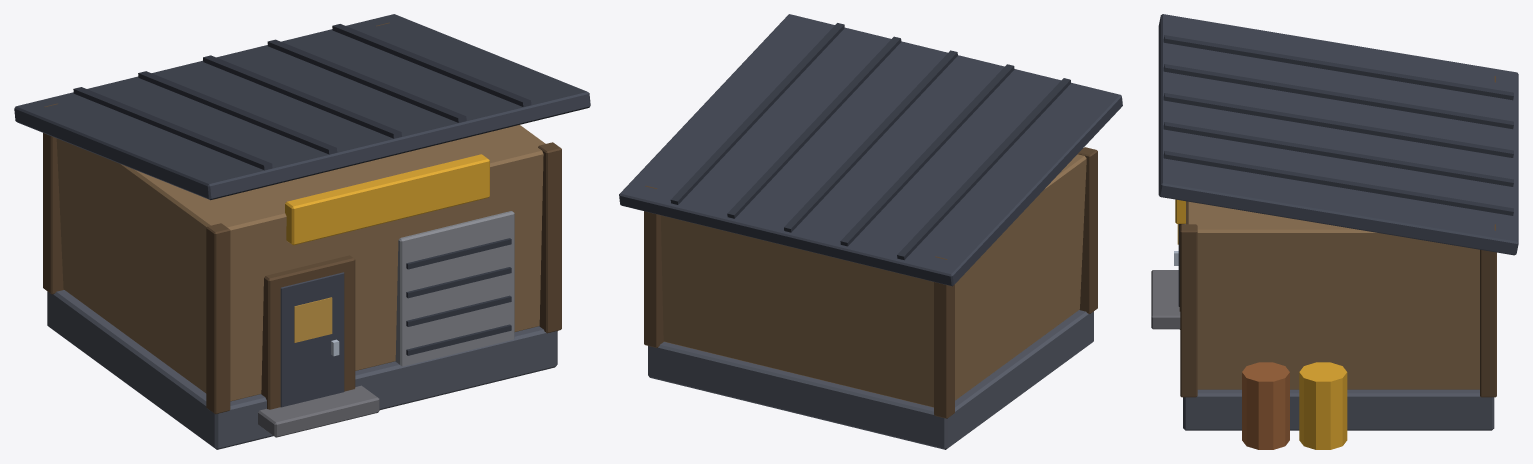
Rendered from Stylized_Apoc_House_03_Salvaged_Tin_Shack.fbx.
The picture shows the model from 3 angles, left to right: view 1: azimuth 30°, elevation 25°; view 2: azimuth 150°, elevation 25°; view 3: azimuth 270°, elevation 25°; orthographic projection. The views are drawn at different scales.
Visible parts, largest first — view 1: Stylized_Apoc_House_03_Salvaged_Tin_Shack; view 2: Stylized_Apoc_House_03_Salvaged_Tin_Shack; view 3: Stylized_Apoc_House_03_Salvaged_Tin_Shack.
Boxes of the visible parts, bbox=[...] form: Stylized_Apoc_House_03_Salvaged_Tin_Shack: bbox=[14, 14, 590, 449]; Stylized_Apoc_House_03_Salvaged_Tin_Shack: bbox=[619, 14, 1122, 449]; Stylized_Apoc_House_03_Salvaged_Tin_Shack: bbox=[1151, 14, 1518, 449].
Size of the model in its own units: 4.99 by 3.36 by 4.29.
